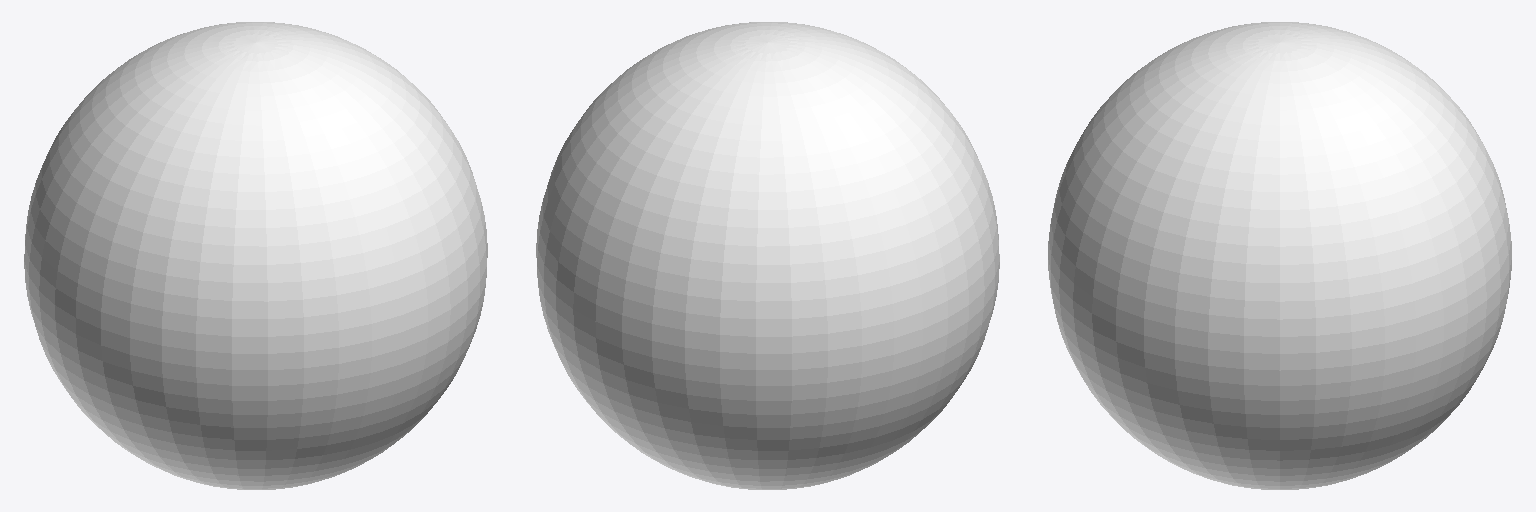
The model's file is lamp.obj.
3 views of the same model, side by side, from view 1: azimuth 30°, elevation 25°; view 2: azimuth 150°, elevation 25°; view 3: azimuth 270°, elevation 25° (orthographic).
Parts seen in each view (by area): view 1: light; view 2: light; view 3: light.
Boxes of the visible parts, x1,y1,x2,y2 form: light: [24, 22, 487, 489]; light: [536, 22, 999, 489]; light: [1048, 22, 1511, 489].
Size of the model in its own units: 1.97 by 2 by 1.97.